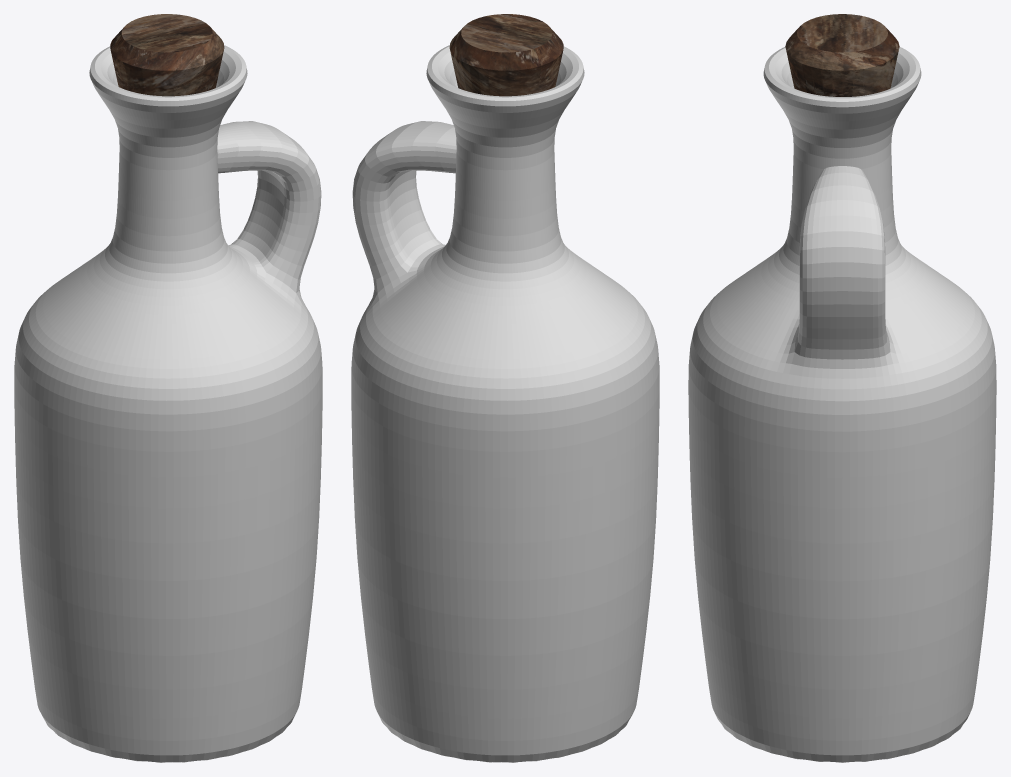
The model's file is unbroken.fbx.
3 renders of one model, left to right at view 1: azimuth 30°, elevation 25°; view 2: azimuth 150°, elevation 25°; view 3: azimuth 270°, elevation 25°, orthographic.
Visible parts, largest first — view 1: bottle, bottle cap; view 2: bottle, bottle cap; view 3: bottle, bottle cap.
Part boxes in pixels (left/top/right/bottom): bottle: left=14, top=45, right=322, bottom=762; bottle cap: left=110, top=14, right=224, bottom=96; bottle: left=351, top=45, right=659, bottom=762; bottle cap: left=449, top=14, right=563, bottom=96; bottle: left=688, top=47, right=996, bottom=762; bottle cap: left=785, top=14, right=899, bottom=96.
Size of the model in its own units: 182 by 435 by 178.
Materials: 2 (1 with a texture image).
